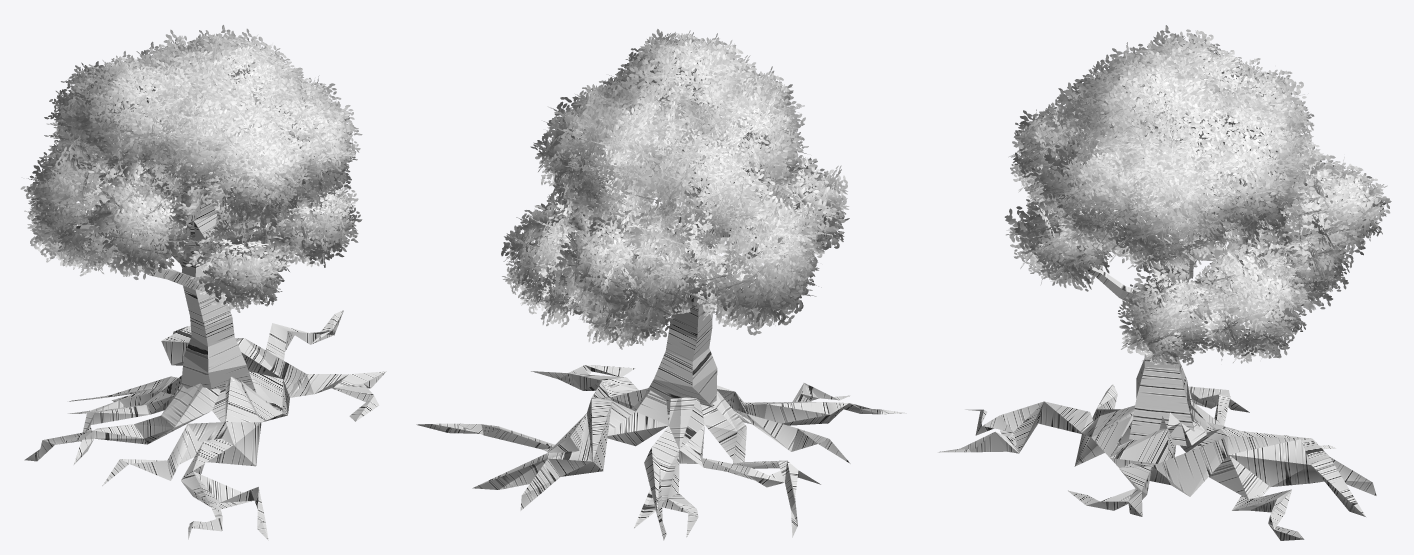
File: Oaktree02.fbx
3 views of the same model, side by side, from view 1: azimuth 30°, elevation 25°; view 2: azimuth 150°, elevation 25°; view 3: azimuth 270°, elevation 25° (orthographic). The views are drawn at different scales.
Visible parts, largest first — view 1: OakTree02_LOD0; view 2: OakTree02_LOD0; view 3: OakTree02_LOD0.
Part boxes in pixels (x1,y1,x2,y2): OakTree02_LOD0: [20, 25, 386, 540]; OakTree02_LOD0: [416, 29, 906, 540]; OakTree02_LOD0: [938, 25, 1391, 540].
Size of what is drawn, in the model's own units: 1163 by 1323 by 1240.
